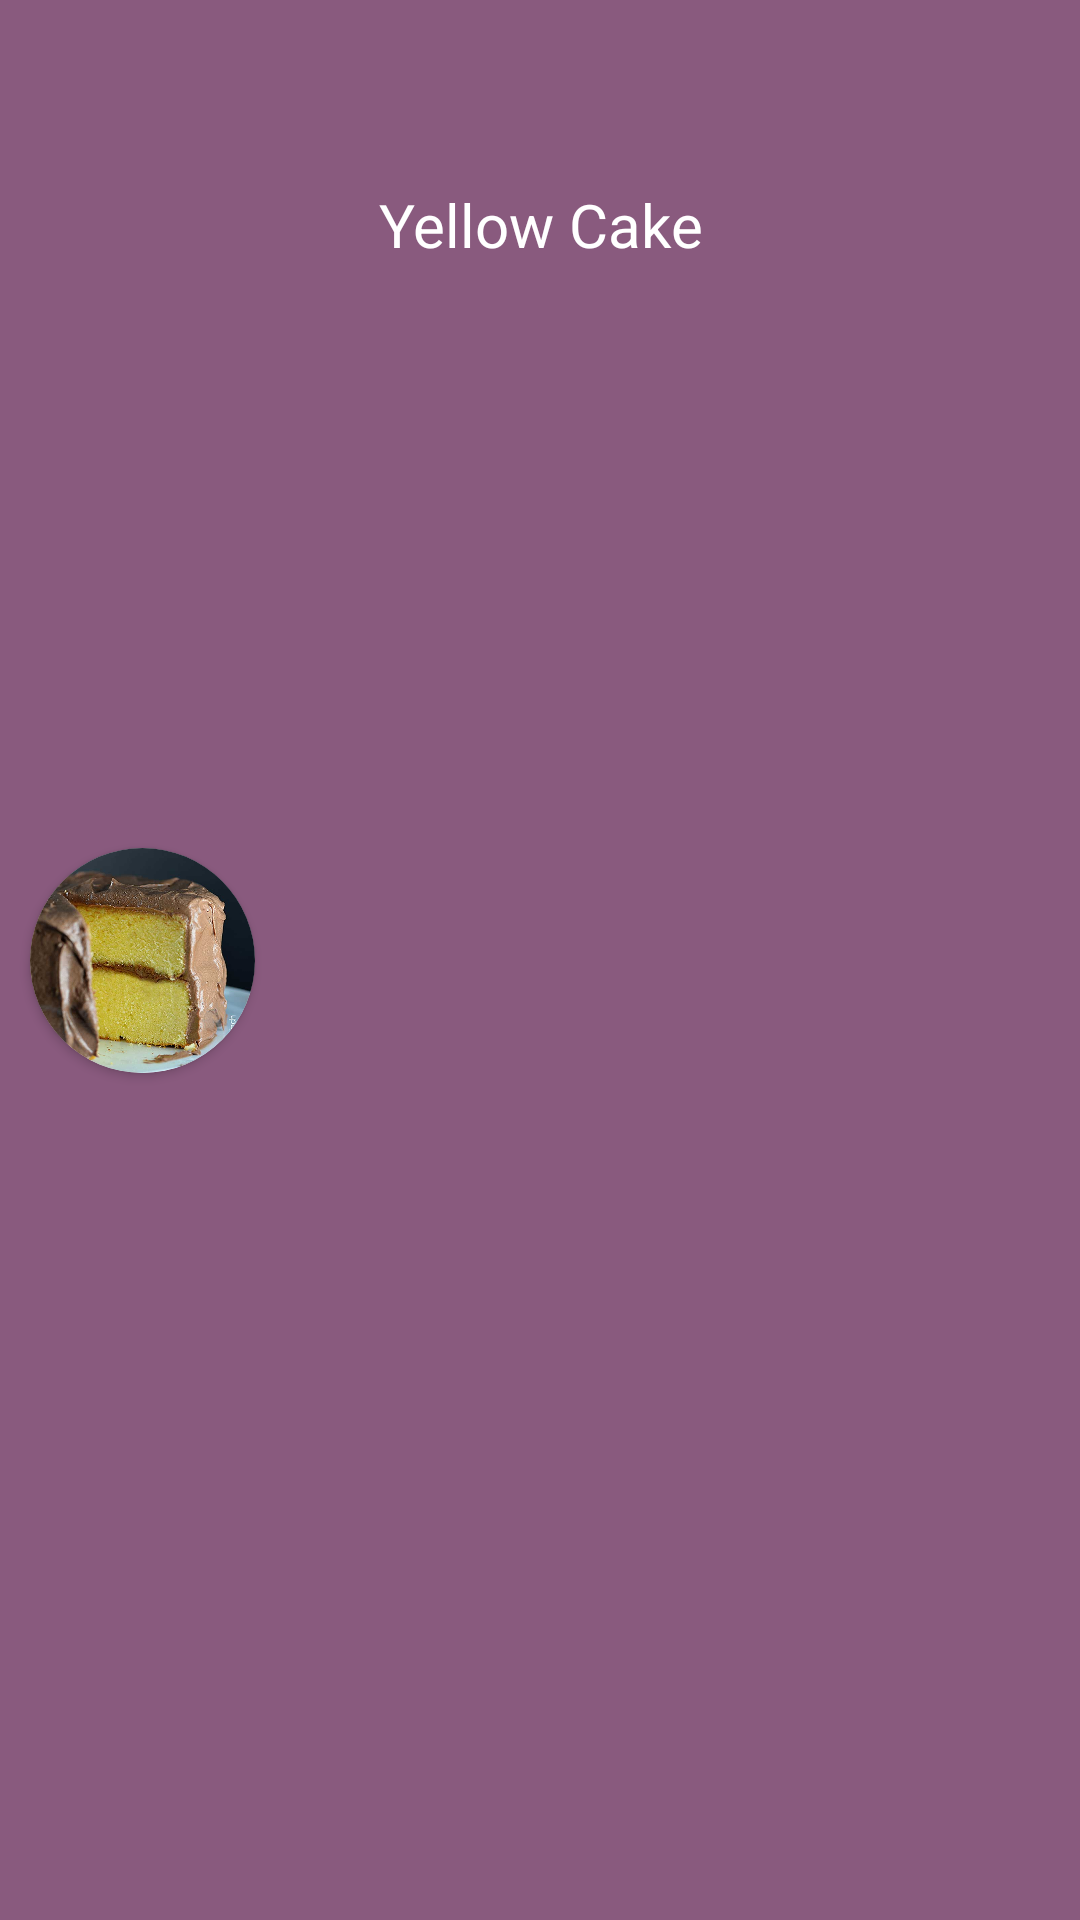

Icons on this 1080 × 1920 Android screen, each with its box as [x1, y1, x2, y2]:
yellowcake: [30, 848, 255, 1073]
